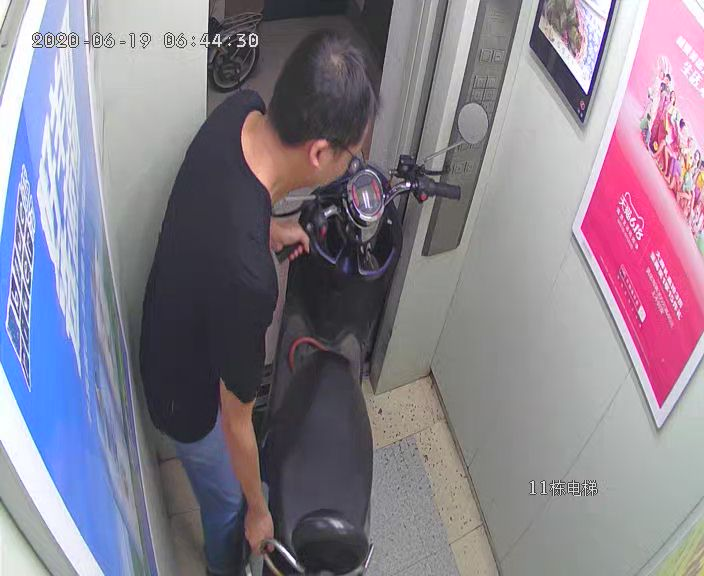Electric-bicycle: (264, 103, 493, 569)
